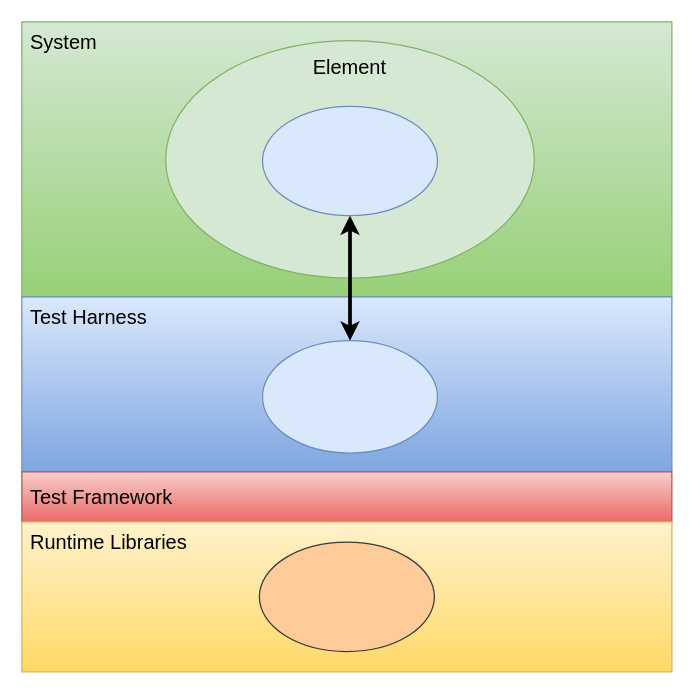
Image size: 694x694. Some labels were removed from this diagram. Each missing label, with the centre of its shape:
"Element-specific Test" goes at point 349,396.
"Instrumentation" goes at point 349,160.
"Instrumented Library" goes at point 346,596.
